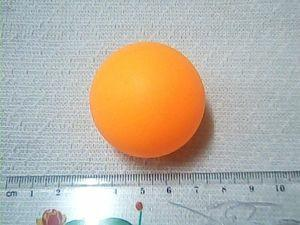ball: (84, 39, 207, 160)
